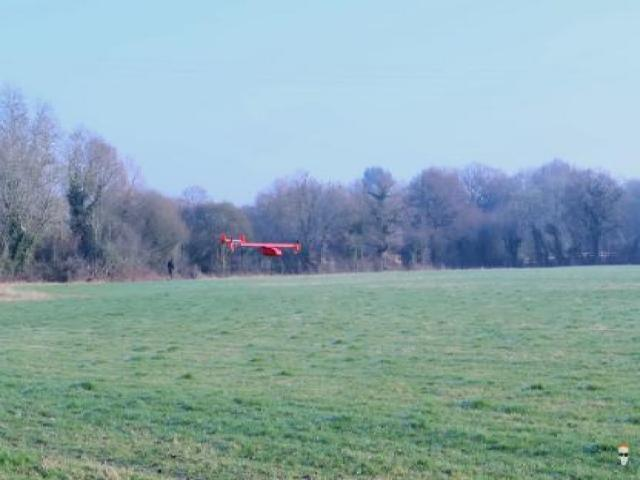uav: (218, 227, 302, 258)
